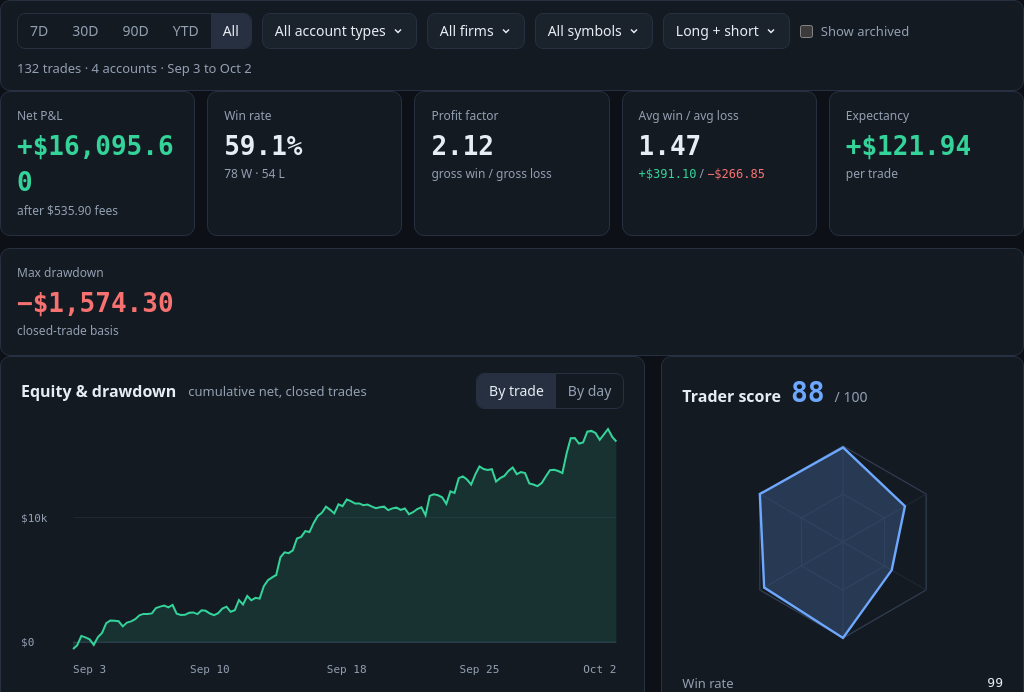
it: the dashboard › switches the equity curve between trades and days
The image size is (1024, 692).
Expected: the picture named "over 132 trades" is shown, [21,417,624,687]
Click the button "By day". click: (590, 391)
box: [556,374,623,408]
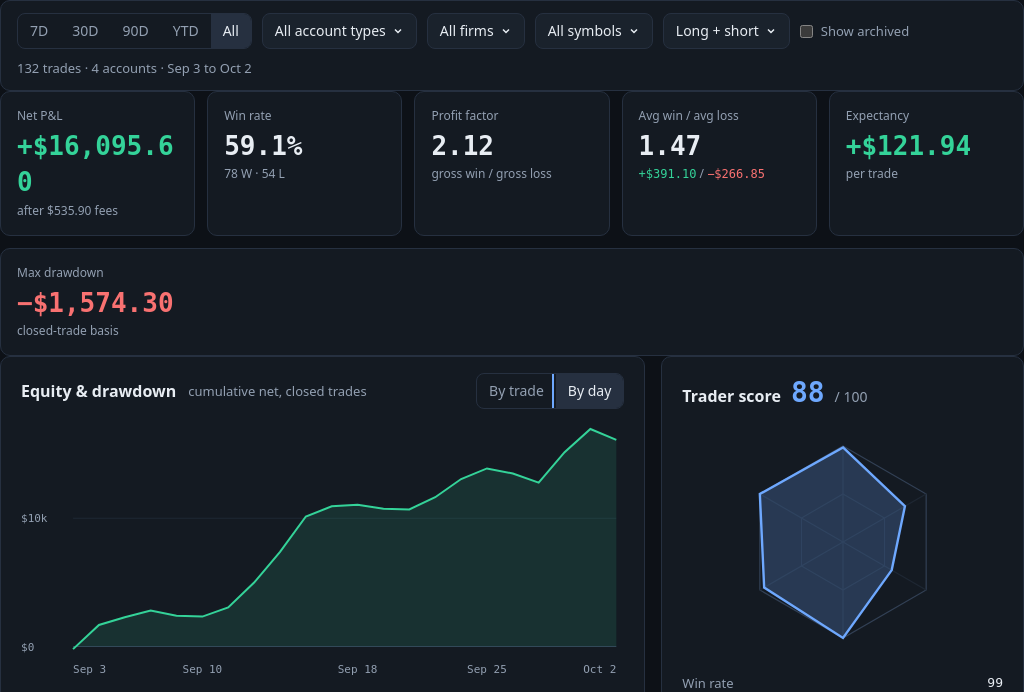
Expected: the picture named "over 22 days" is shown, [21,417,624,687]
